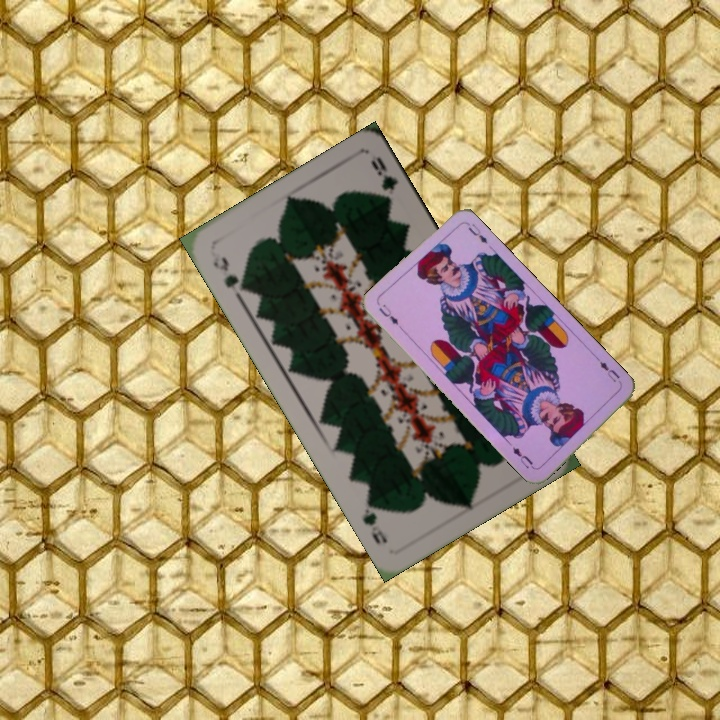EU: (374, 300, 407, 334), (593, 353, 622, 385)
G9: (207, 247, 250, 301)
